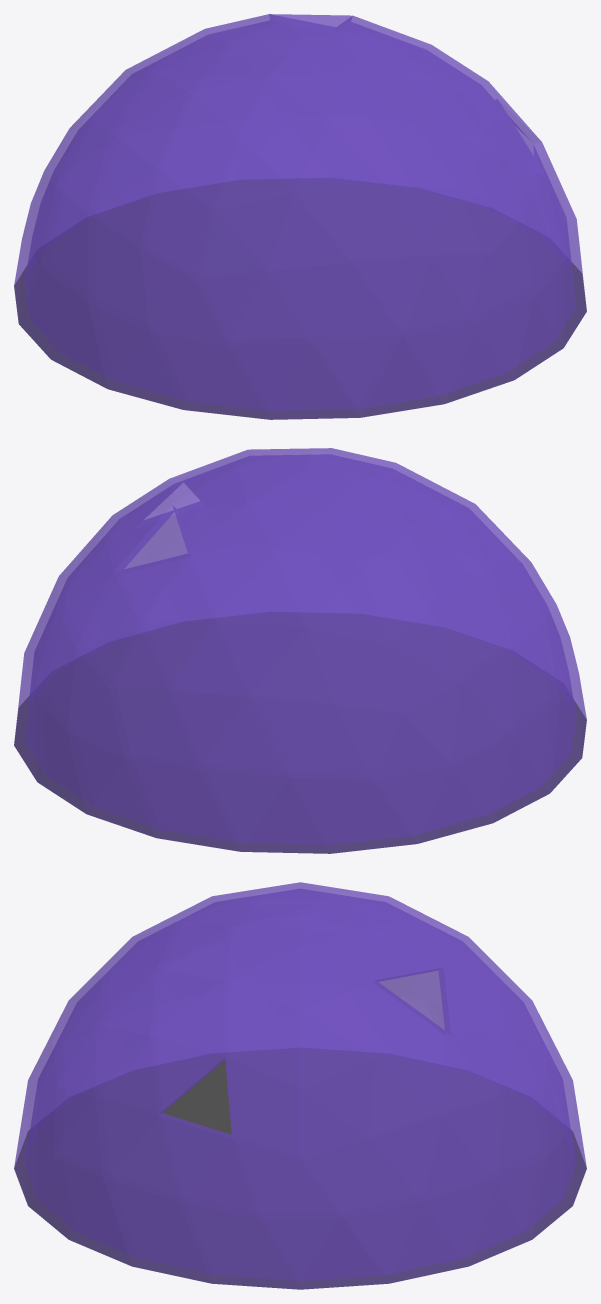
3 renders of one model, top to bottom at view 1: azimuth 30°, elevation 25°; view 2: azimuth 150°, elevation 25°; view 3: azimuth 270°, elevation 25°, orthographic.
Visible parts, largest first — view 1: Walls, Floor; view 2: Walls, Floor; view 3: Walls, Floor.
Part boxes in pixels (left/top/right/bottom): Walls: left=14, top=14, right=586, bottom=419; Floor: left=14, top=178, right=586, bottom=419; Walls: left=14, top=448, right=586, bottom=853; Floor: left=14, top=612, right=586, bottom=853; Walls: left=14, top=882, right=586, bottom=1289; Floor: left=14, top=1048, right=586, bottom=1289.
Bounding box in the file's own units: 191 × 95.27 × 191.
